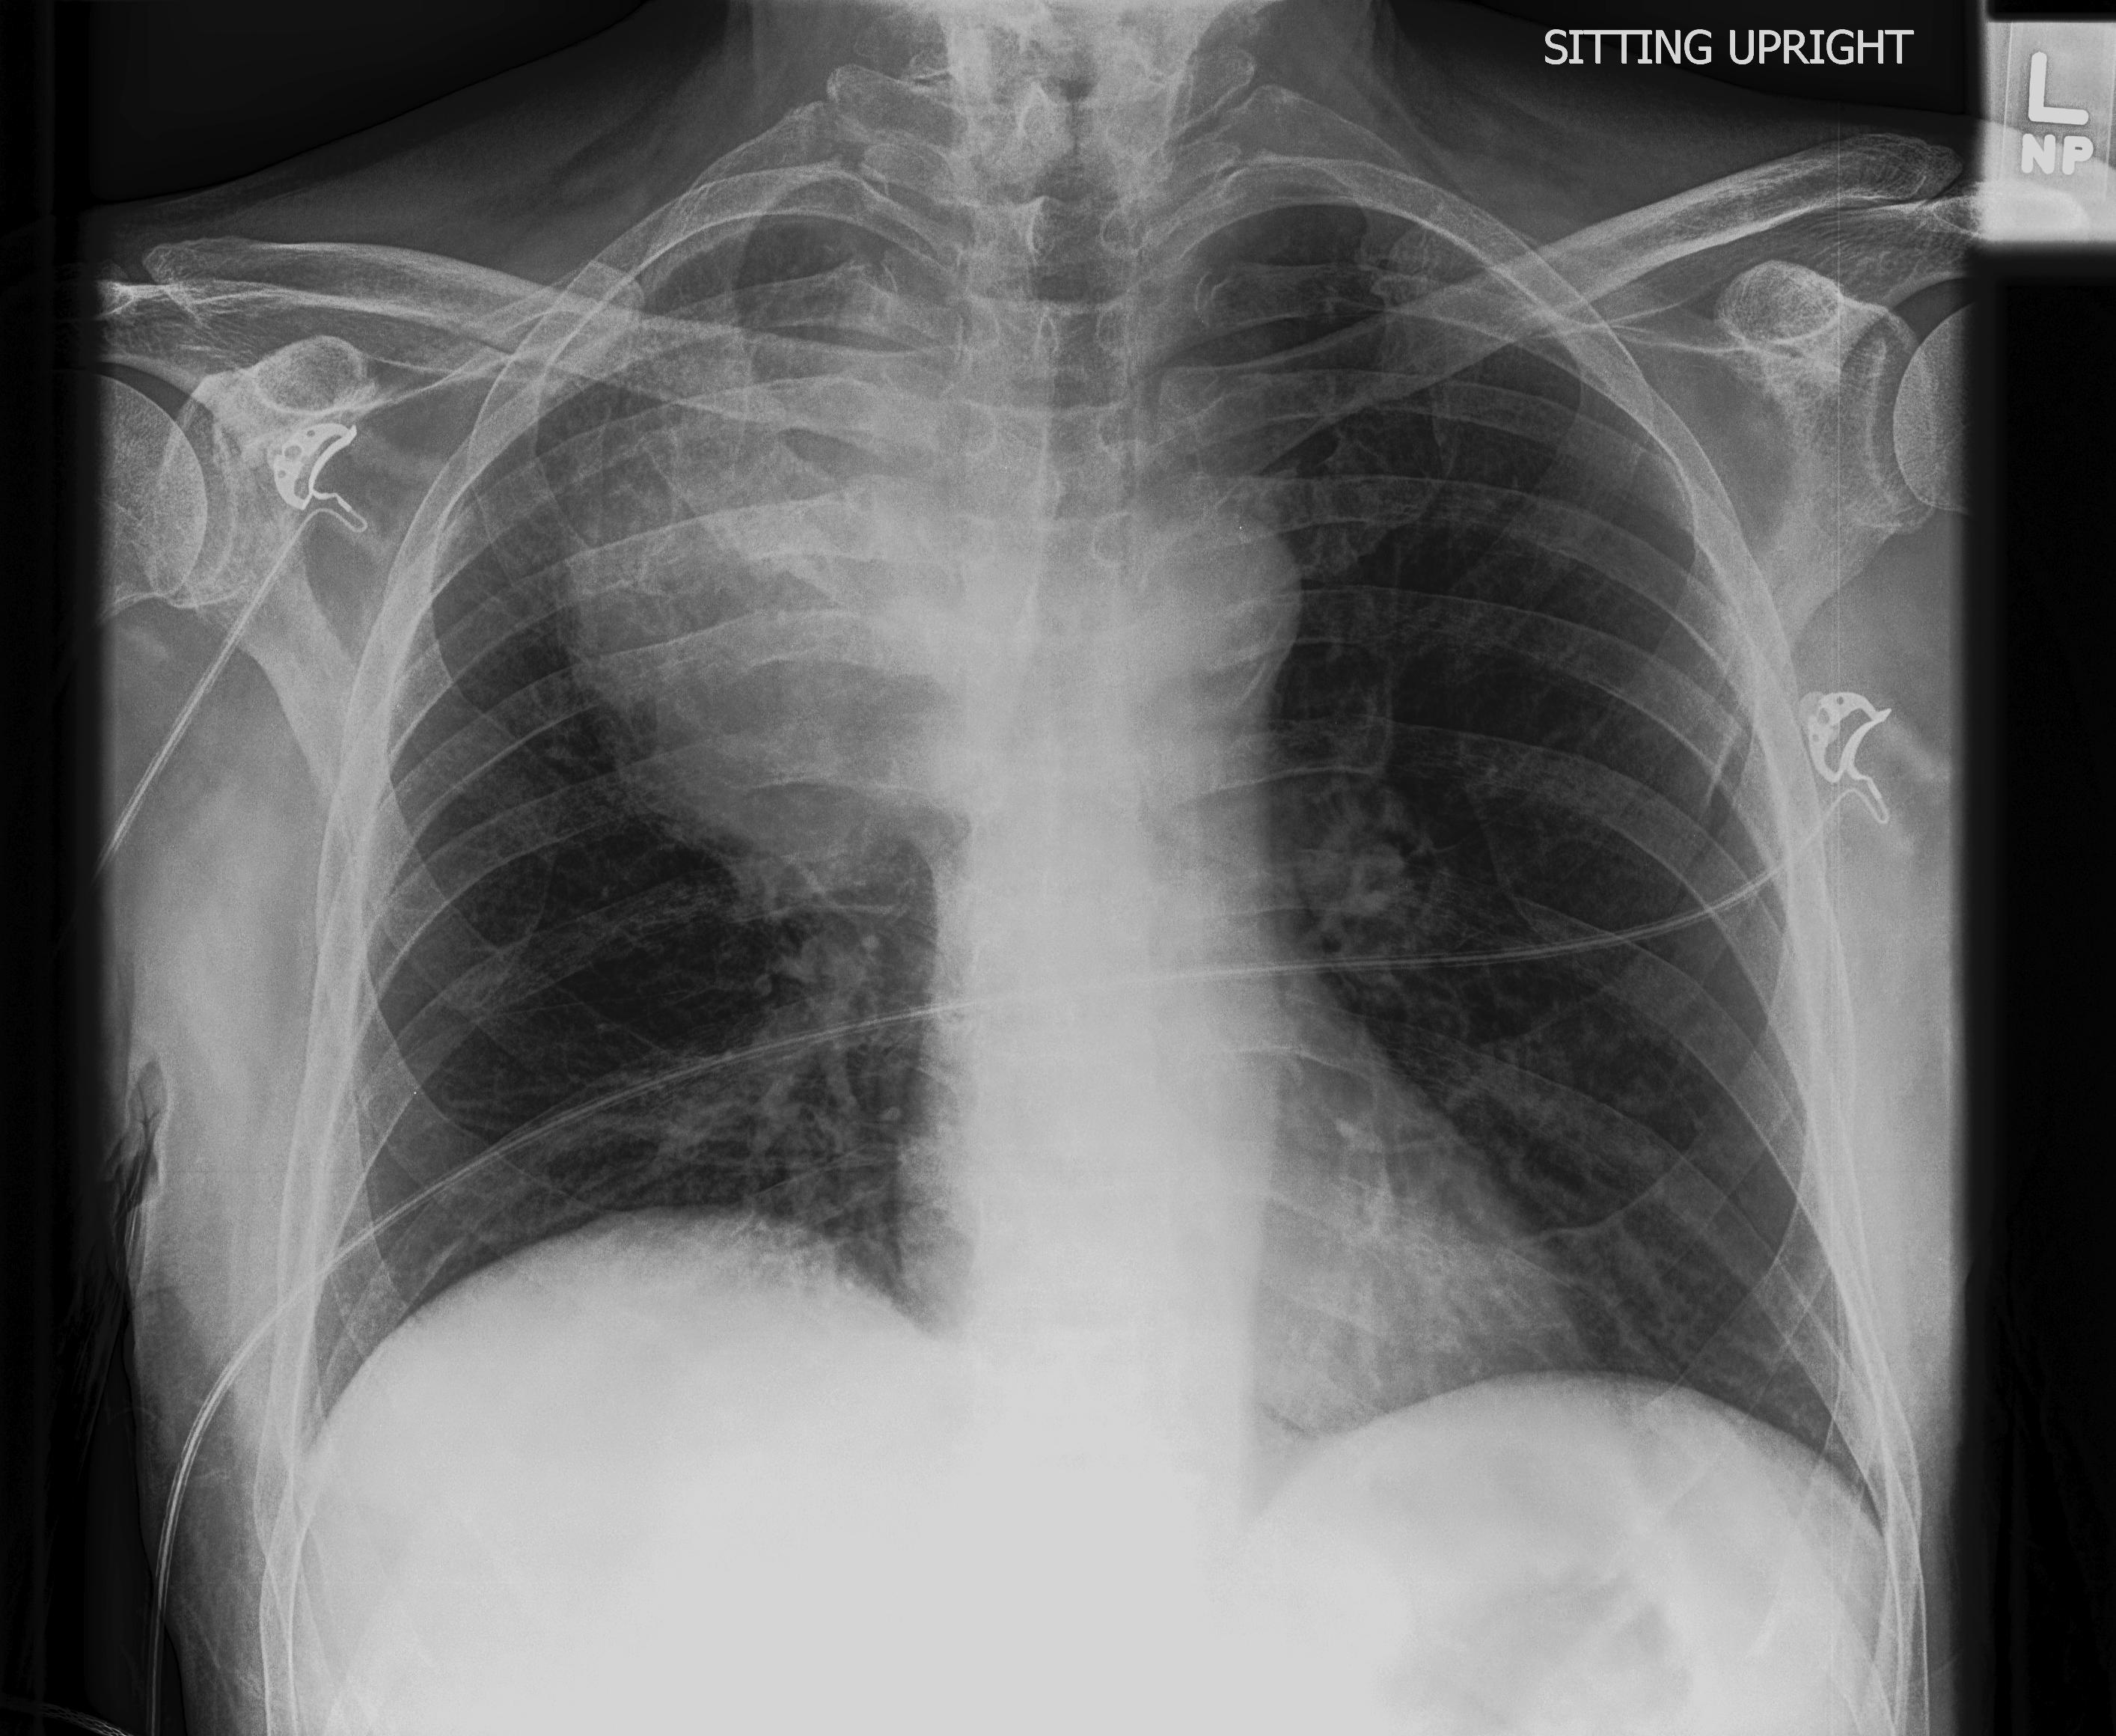Pleural Effusion: (540, 427, 910, 849)
